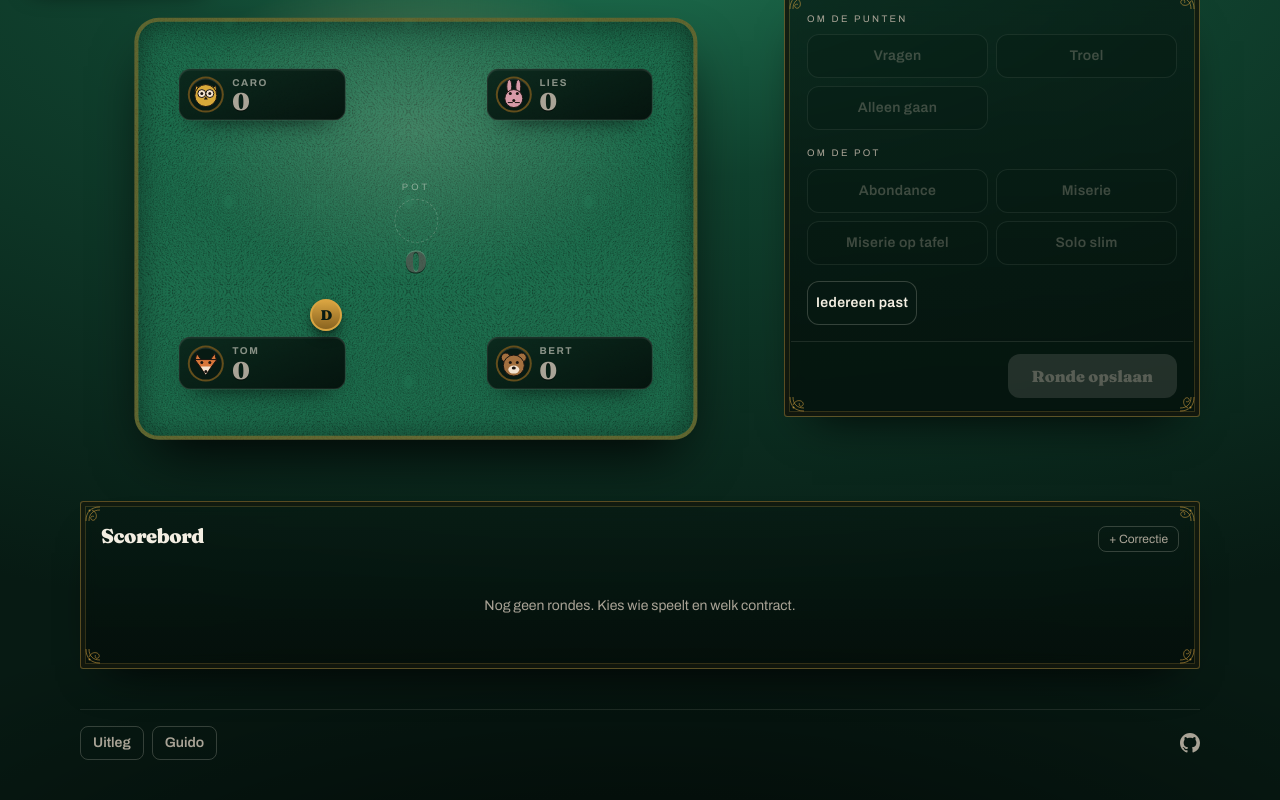
App › wisselt met de Guido-knop naar het gezin en terug
(page scrolled)
What coordinates should you click on to do the following:
click the button "Guido"
I would click on:
 (184, 743)
Its box is 152,726 -> 217,760.
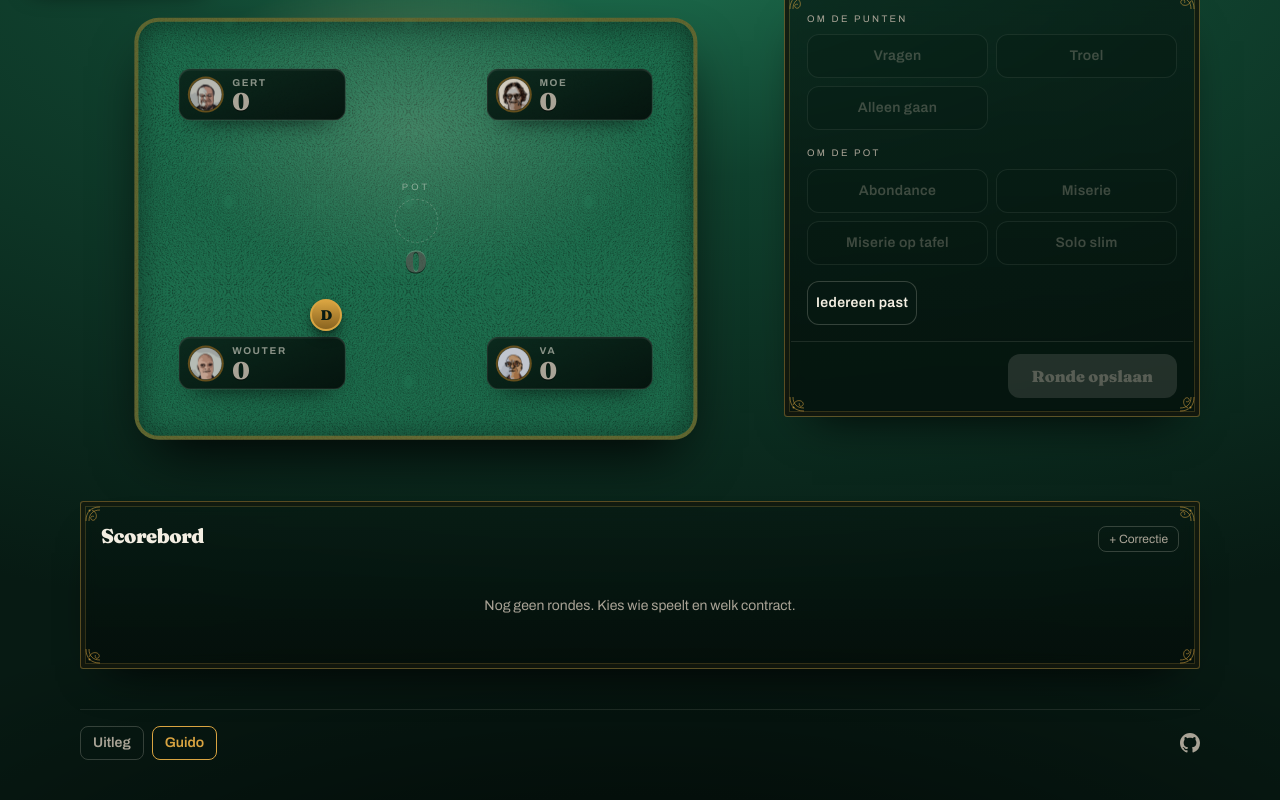
Expected: the button "Wouter 0" is shown, 232,344 -> 337,383
What coordinates should you click on to do the following:
click the button "Guido"
I would click on:
 (184, 743)
Its box is 152,726 -> 217,760.
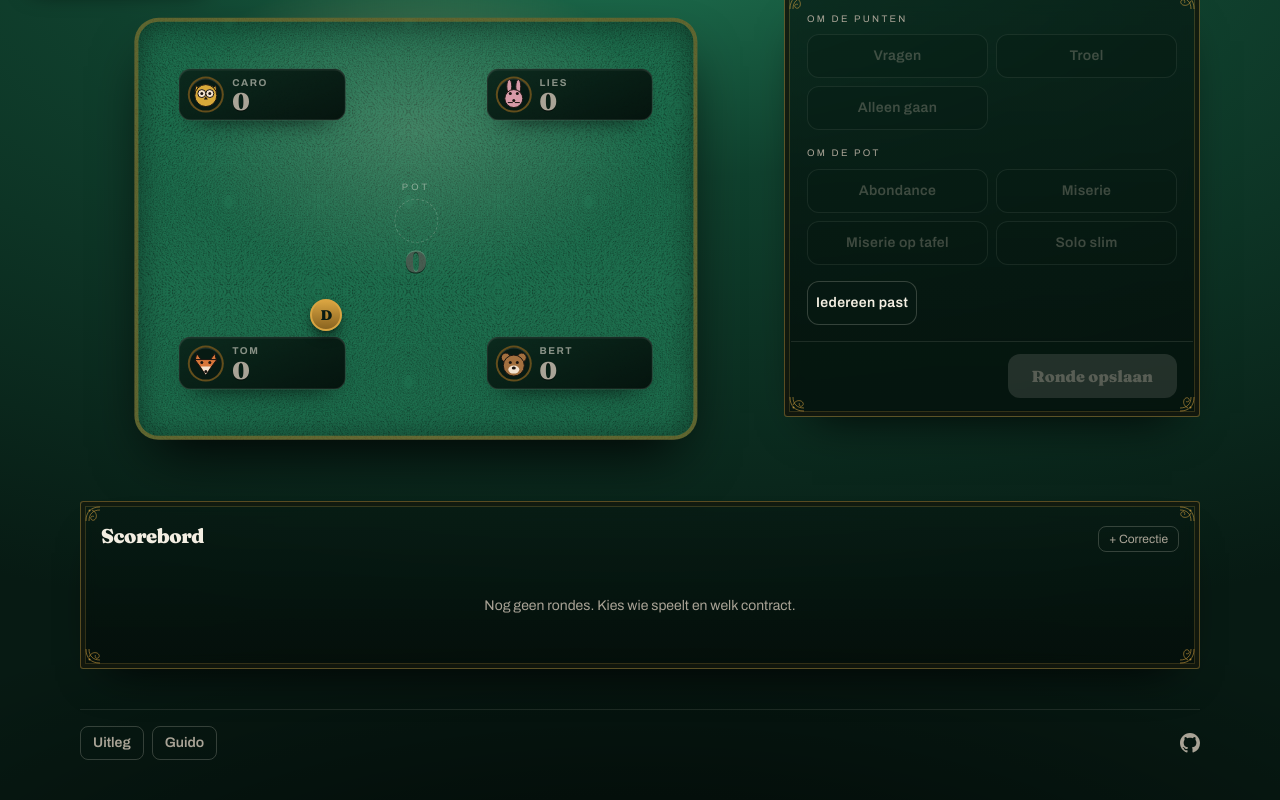
Expected: the button "Tom 0" is shown, 232,344 -> 337,383
